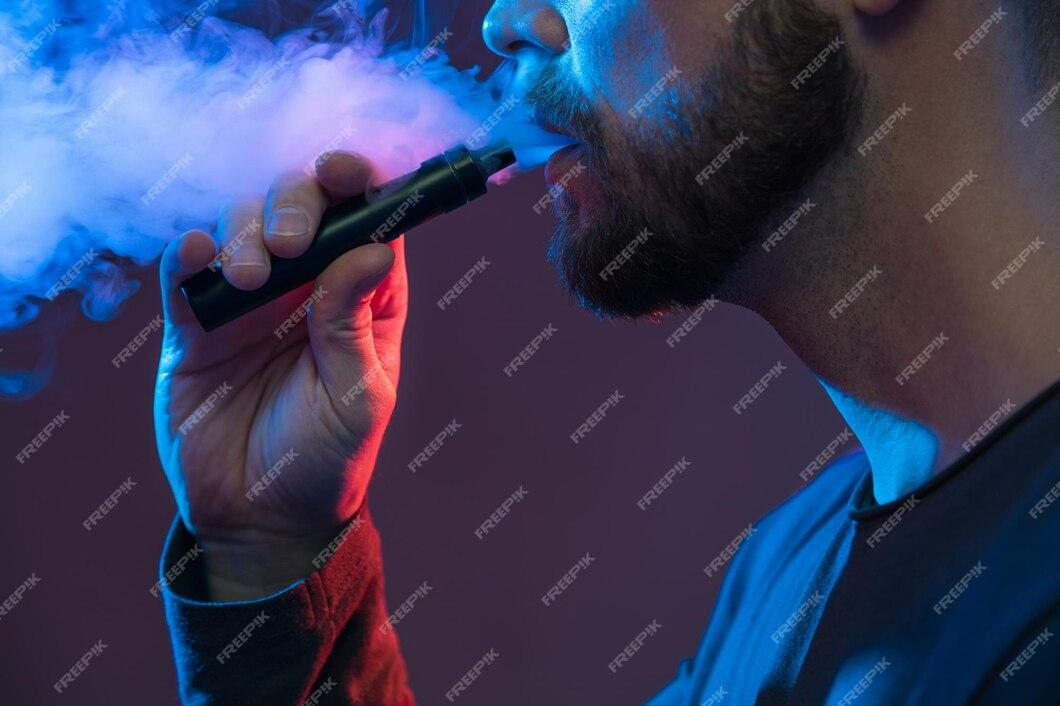Vape: (183, 145, 514, 330)
